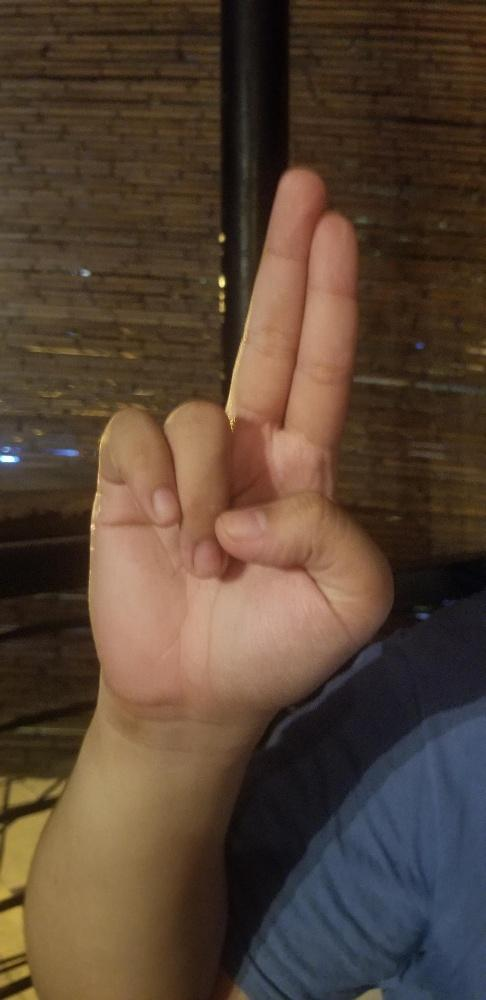u: (86, 167, 395, 696)
